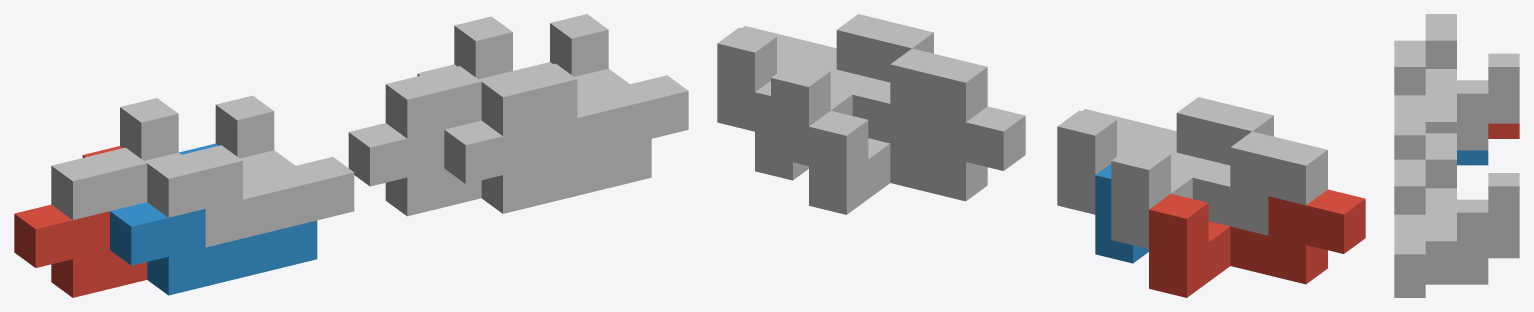
The model's file is tiling.obj.
3 renders of one model, left to right at view 1: azimuth 30°, elevation 25°; view 2: azimuth 150°, elevation 25°; view 3: azimuth 270°, elevation 25°, orthographic. The views are drawn at different scales.
Visible parts, largest first — view 1: copy_1_domain_4, copy_1_domain_8, copy_1_domain_2, copy_1_domain_6, copy_1_domain_7, copy_1_domain_3, copy_1_domain_5, copy_1_domain_1; view 2: copy_1_domain_1, copy_1_domain_5, copy_1_domain_3, copy_1_domain_7, copy_1_domain_4, copy_1_domain_8, copy_1_domain_2, copy_1_domain_6; view 3: copy_1_domain_8, copy_1_domain_4, copy_1_domain_3, copy_1_domain_7, copy_1_domain_6, copy_1_domain_1, copy_1_domain_5, copy_1_domain_2.
Part boxes in pixels (left/top/right/bottom): copy_1_domain_4: left=147, top=95, right=354, bottom=247; copy_1_domain_8: left=481, top=14, right=688, bottom=165; copy_1_domain_2: left=110, top=143, right=317, bottom=295; copy_1_domain_6: left=444, top=62, right=651, bottom=213; copy_1_domain_7: left=385, top=16, right=592, bottom=138; copy_1_domain_3: left=51, top=98, right=258, bottom=219; copy_1_domain_5: left=348, top=64, right=481, bottom=216; copy_1_domain_1: left=14, top=146, right=147, bottom=297; copy_1_domain_1: left=1149, top=189, right=1365, bottom=297; copy_1_domain_5: left=809, top=106, right=1025, bottom=214; copy_1_domain_3: left=1111, top=131, right=1327, bottom=248; copy_1_domain_7: left=771, top=48, right=987, bottom=165; copy_1_domain_4: left=1057, top=97, right=1273, bottom=214; copy_1_domain_8: left=717, top=14, right=933, bottom=131; copy_1_domain_2: left=1095, top=164, right=1148, bottom=263; copy_1_domain_6: left=755, top=81, right=808, bottom=180; copy_1_domain_8: left=1394, top=159, right=1488, bottom=282; copy_1_domain_4: left=1394, top=40, right=1488, bottom=159; copy_1_domain_3: left=1425, top=14, right=1519, bottom=123; copy_1_domain_7: left=1425, top=133, right=1519, bottom=242; copy_1_domain_6: left=1394, top=269, right=1488, bottom=297; copy_1_domain_1: left=1488, top=123, right=1519, bottom=138; copy_1_domain_5: left=1488, top=243, right=1519, bottom=258; copy_1_domain_2: left=1457, top=150, right=1488, bottom=165.
Size of the model in its own units: 17 by 3 by 4.
